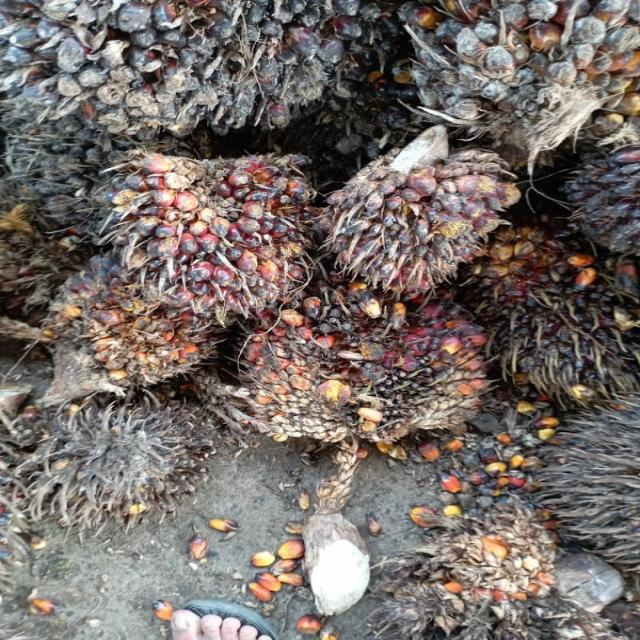fraksi 1: (49, 119, 350, 348)
